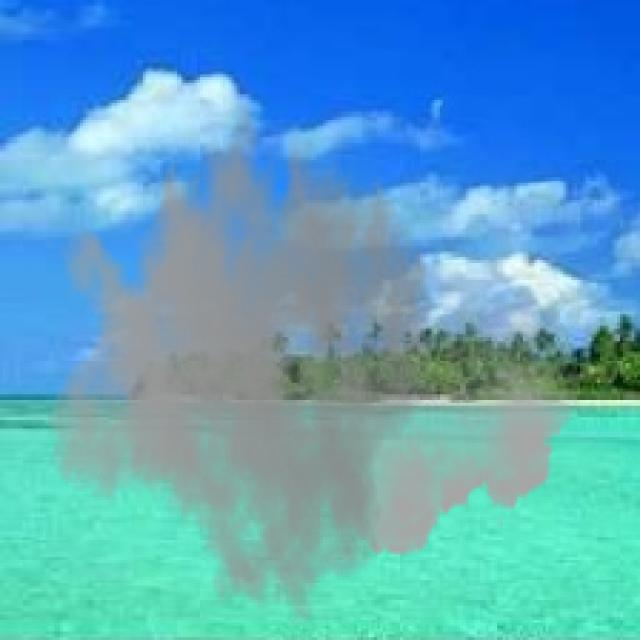smoke: (46, 77, 580, 626)
